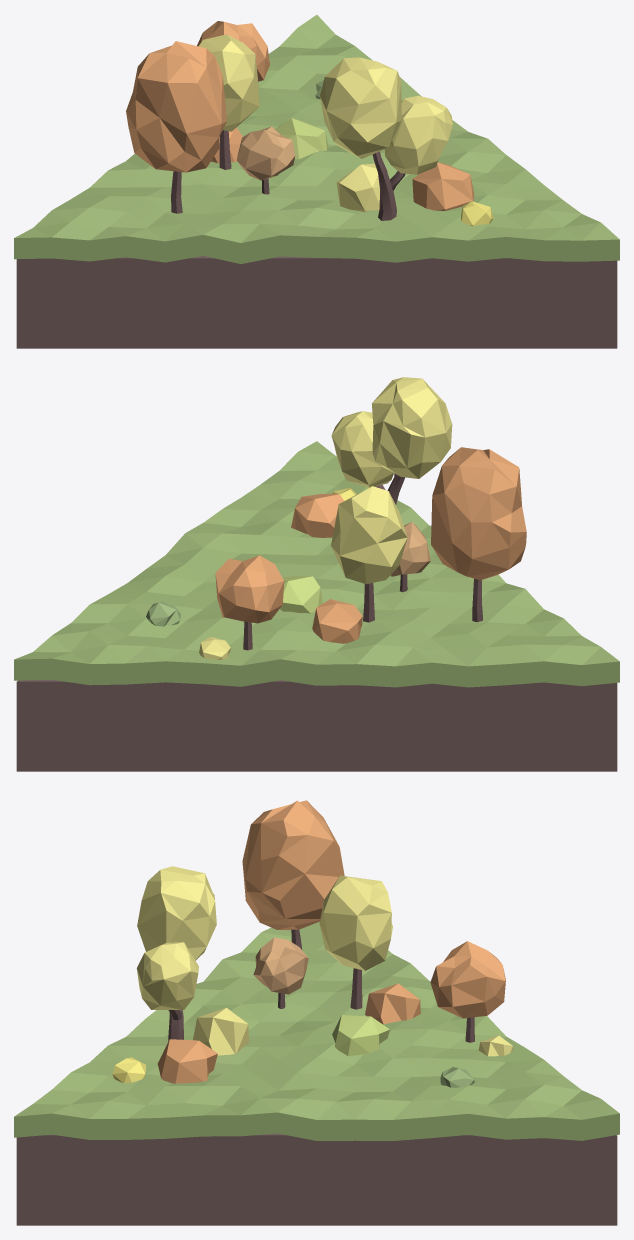
File: TILE_02_02_Autumn.fbx
3 renders of one model, top to bottom at view 1: azimuth 30°, elevation 25°; view 2: azimuth 150°, elevation 25°; view 3: azimuth 270°, elevation 25°, orthographic.
Visible parts, largest first — view 1: TILE14, TILESURFACE7 (1), pCube5, pCube6, pCube7, pCube3, bush1, pPlatonic1 1, bush2, pPlatonic1, bush1 (1), pCylinder14 (+1 smaller); view 2: TILESURFACE7 (1), TILE14, pCube5, pCube6, pCube3, pPlatonic1, pCube7, bush2 (2), bush1, bush1 (1), pPlatonic1 1, bush3 (1) (+1 smaller); view 3: TILESURFACE7 (1), TILE14, pCube5, pCube3, pCube6, pPlatonic1, pCube7, pPlatonic1 1, bush1, bush2, bush1 (1), bush2 (2) (+1 smaller).
Part boxes in pixels (box(x1,y1,x2,y2)): TILE14: box(16, 256, 617, 348); TILESURFACE7 (1): box(14, 15, 619, 263); pCube5: box(126, 41, 226, 172); pCube6: box(320, 57, 401, 158); pCube7: box(384, 95, 452, 174); pCube3: box(198, 34, 259, 131); bush1: box(412, 162, 474, 210); pPlatonic1 1: box(236, 126, 295, 180); bush2: box(336, 163, 379, 212); pPlatonic1: box(197, 21, 269, 81); bush1 (1): box(275, 118, 328, 159); pCylinder14: box(372, 151, 396, 220); TILESURFACE7 (1): box(14, 441, 619, 687); TILE14: box(16, 680, 617, 771); pCube5: box(431, 447, 526, 580); pCube6: box(371, 377, 452, 478); pCube3: box(331, 486, 407, 584); pPlatonic1: box(215, 555, 284, 623); pCube7: box(331, 411, 393, 487); bush2 (2): box(312, 599, 362, 643); bush1: box(291, 494, 343, 537); bush1 (1): box(280, 576, 322, 613); pPlatonic1 1: box(390, 522, 430, 576); bush3 (1): box(146, 601, 180, 626); TILESURFACE7 (1): box(14, 921, 619, 1140); TILE14: box(16, 1133, 617, 1225); pCube5: box(242, 800, 344, 929); pCube3: box(319, 875, 392, 970); pCube6: box(137, 866, 216, 960); pPlatonic1: box(430, 941, 505, 1018); pCube7: box(136, 942, 198, 1009); pPlatonic1 1: box(253, 937, 308, 994); bush1: box(157, 1039, 217, 1083); bush2: box(193, 1008, 249, 1055); bush1 (1): box(332, 1015, 389, 1055); bush2 (2): box(365, 983, 420, 1024).
Bounding box in the file's own units: 151 × 88.56 × 175.
